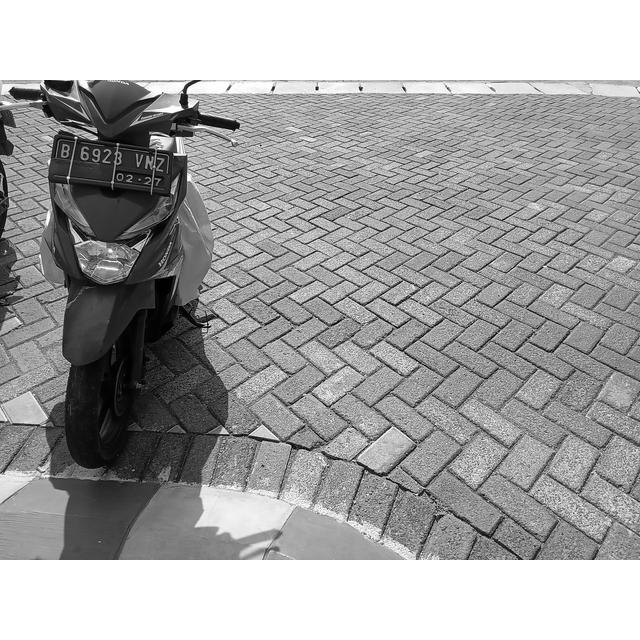license: (58, 142, 165, 188)
